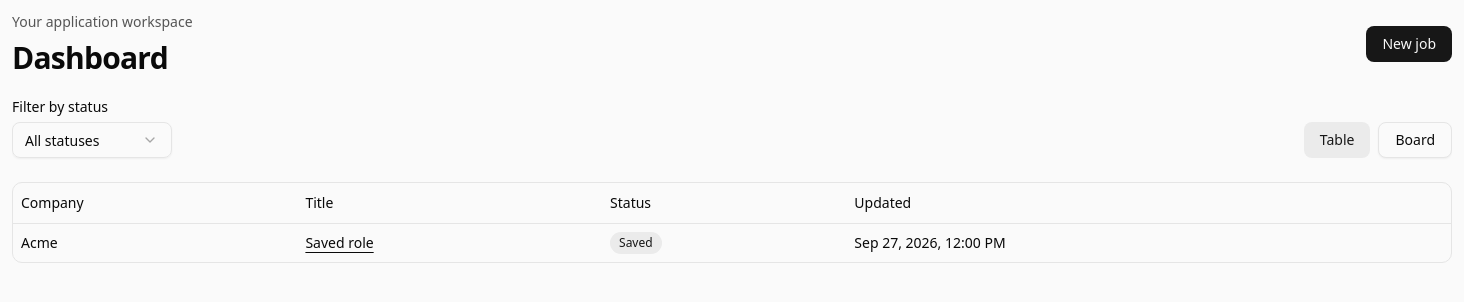
Test: Dashboard › shows the filtered empty state
Expected: the link "Saved role" is shown, 305,232 -> 374,252
Select "Offer" in the dropdown labelled "Filter by status" at (92, 140), box 12,122 -> 172,158
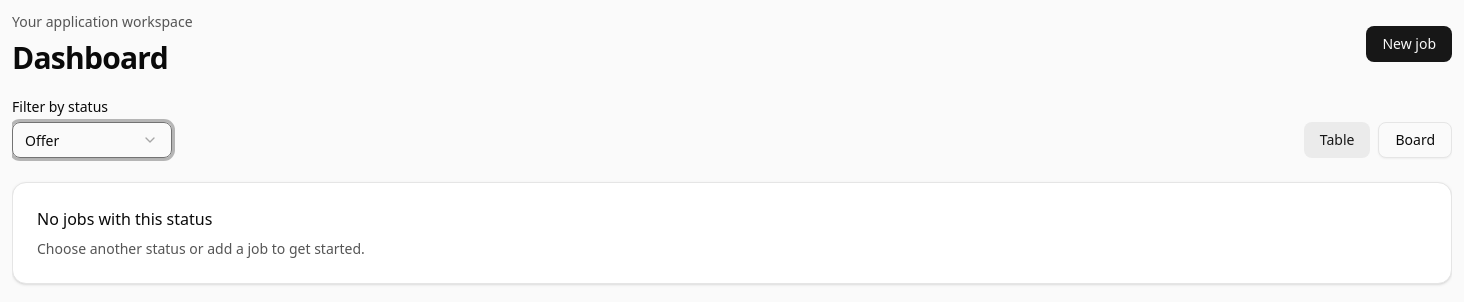
Result: the heading "No jobs with this status" is shown at 37,208 -> 212,230
